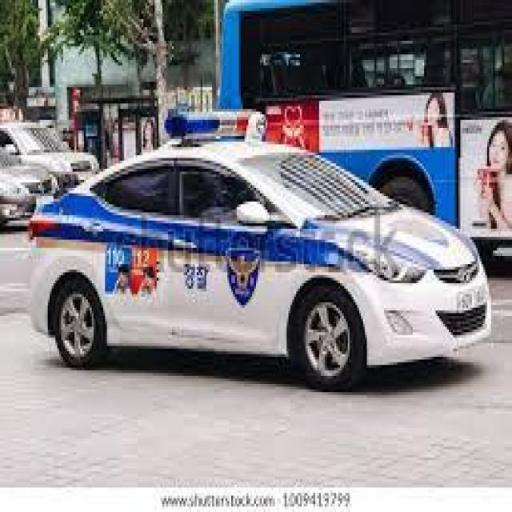Ambulance: (25, 112, 491, 373)
